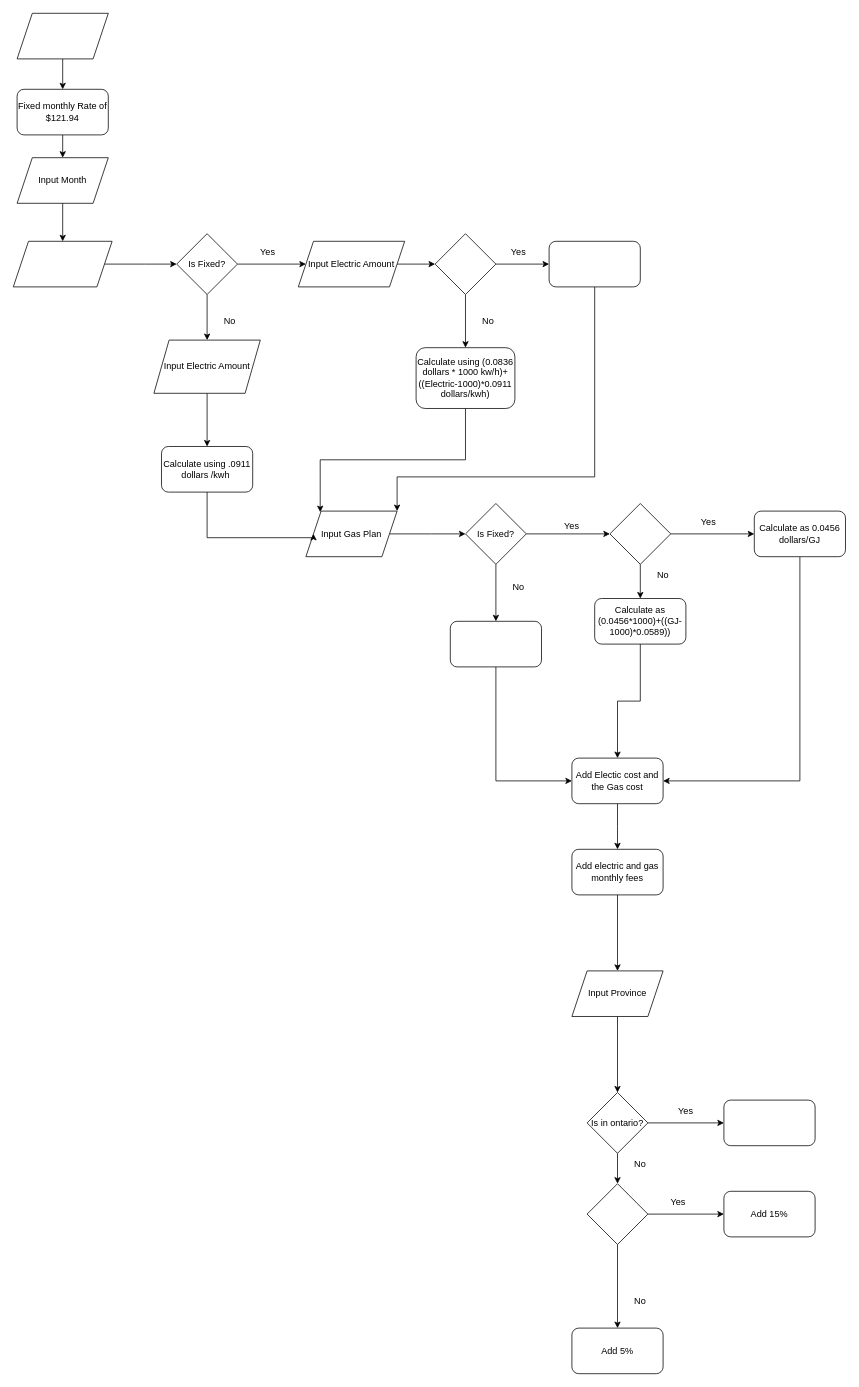
Image size: 859x1387. Some labels were removed from this diagram. Here are the shapes that lost their labels. From the top down, the centre of each, then its label:
At point (62, 36): "Input Account Number".
At point (62, 264): "Input Electric Plan".
At point (465, 263): "Is <= 1000".
At point (594, 264): "Calculate using .0836 dollars/kwh".
At point (640, 533): "Is <= 950 GJ".
At point (496, 644): "Calculate as GJ* 0.0393 dollars".
At point (769, 1122): "Add 13%".
At point (617, 1213): "Is in maritimes?".
